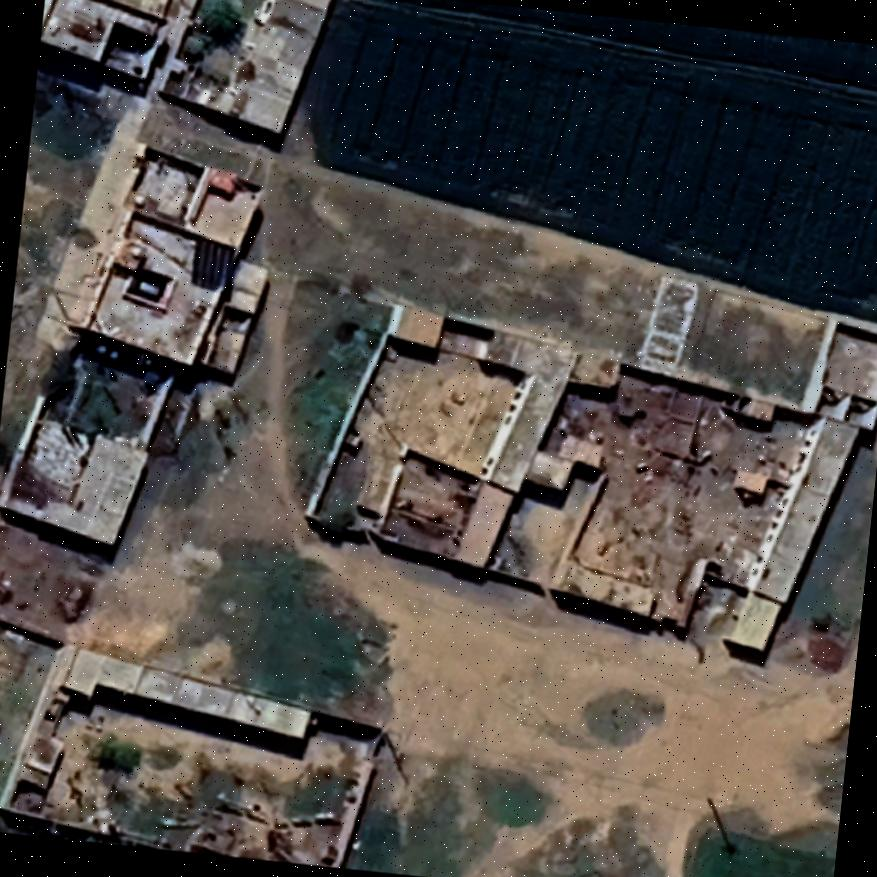Solarpanel: (184, 234, 242, 298)
